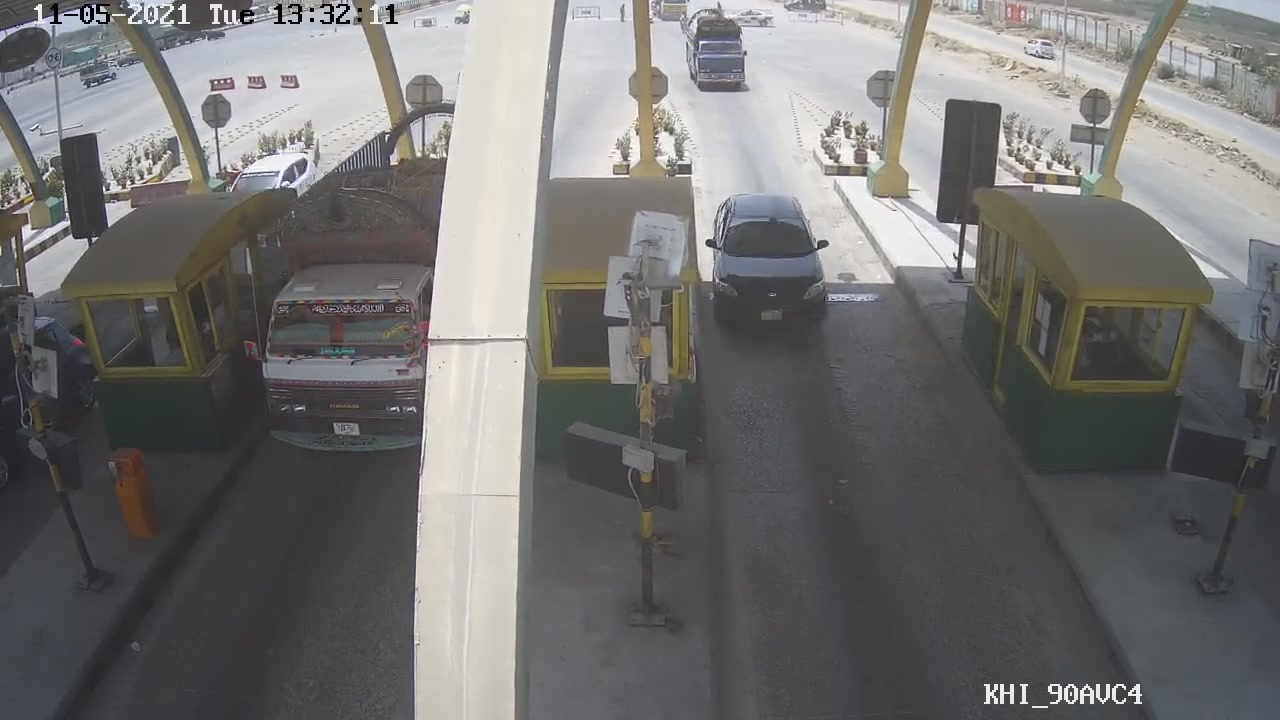F1: (701, 188, 837, 336)
